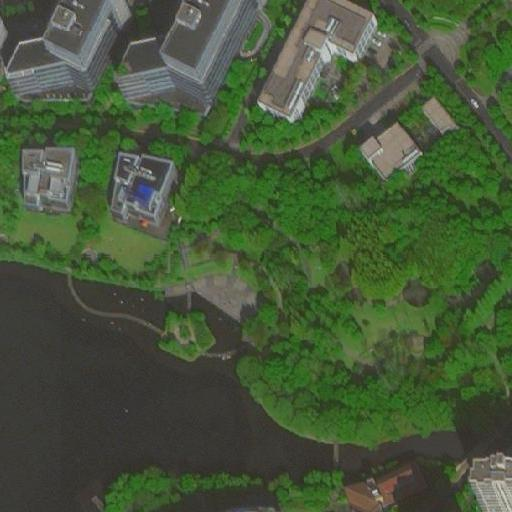building: (264, 4, 353, 123), (175, 5, 260, 109), (106, 154, 173, 227), (359, 118, 425, 182), (19, 142, 79, 211), (125, 54, 189, 112), (14, 63, 91, 111), (333, 14, 378, 62), (419, 93, 461, 137), (369, 467, 418, 498), (343, 481, 382, 511)
